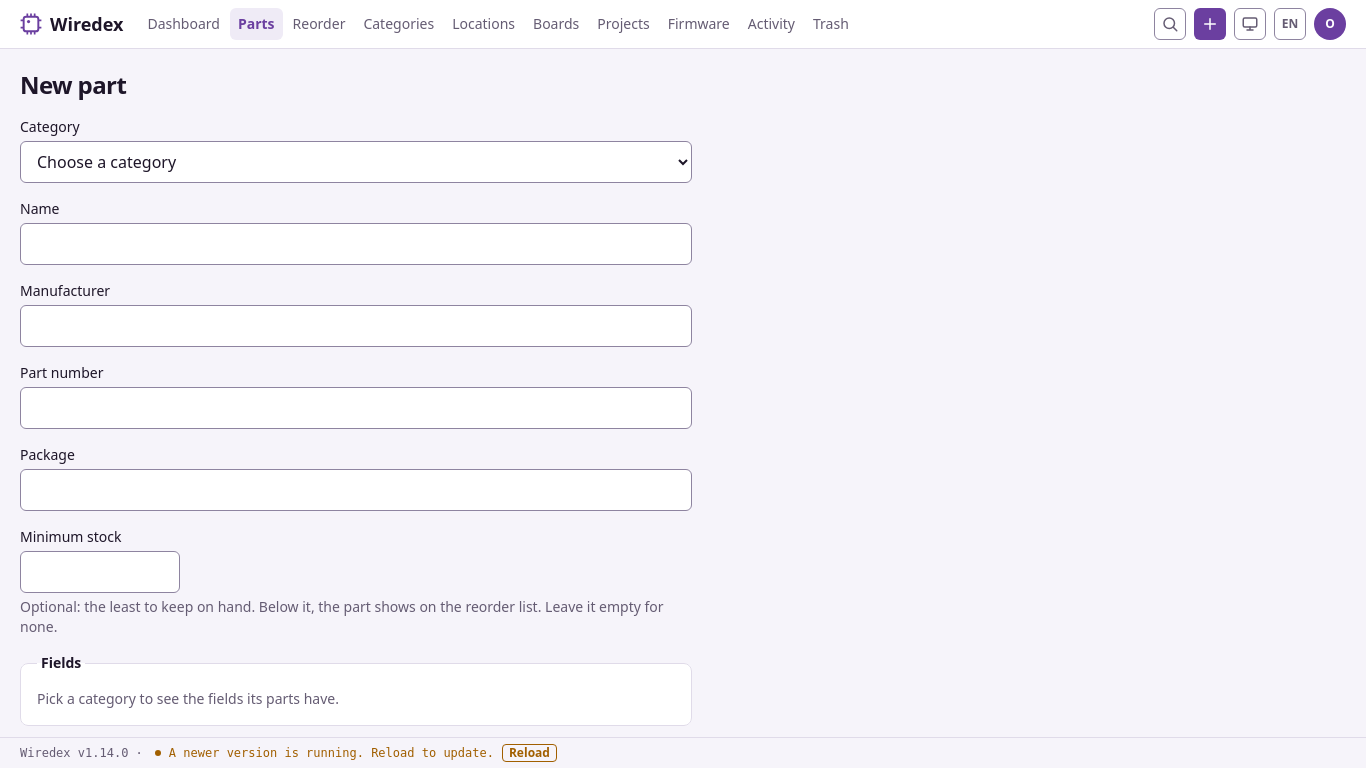
PartForm › refuses a number it can't read, before asking the API
The width and height of the screenshot is (1366, 768).
Select "Resistors" in the dropdown labelled "Category" at (356, 162), box [20, 141, 692, 183]
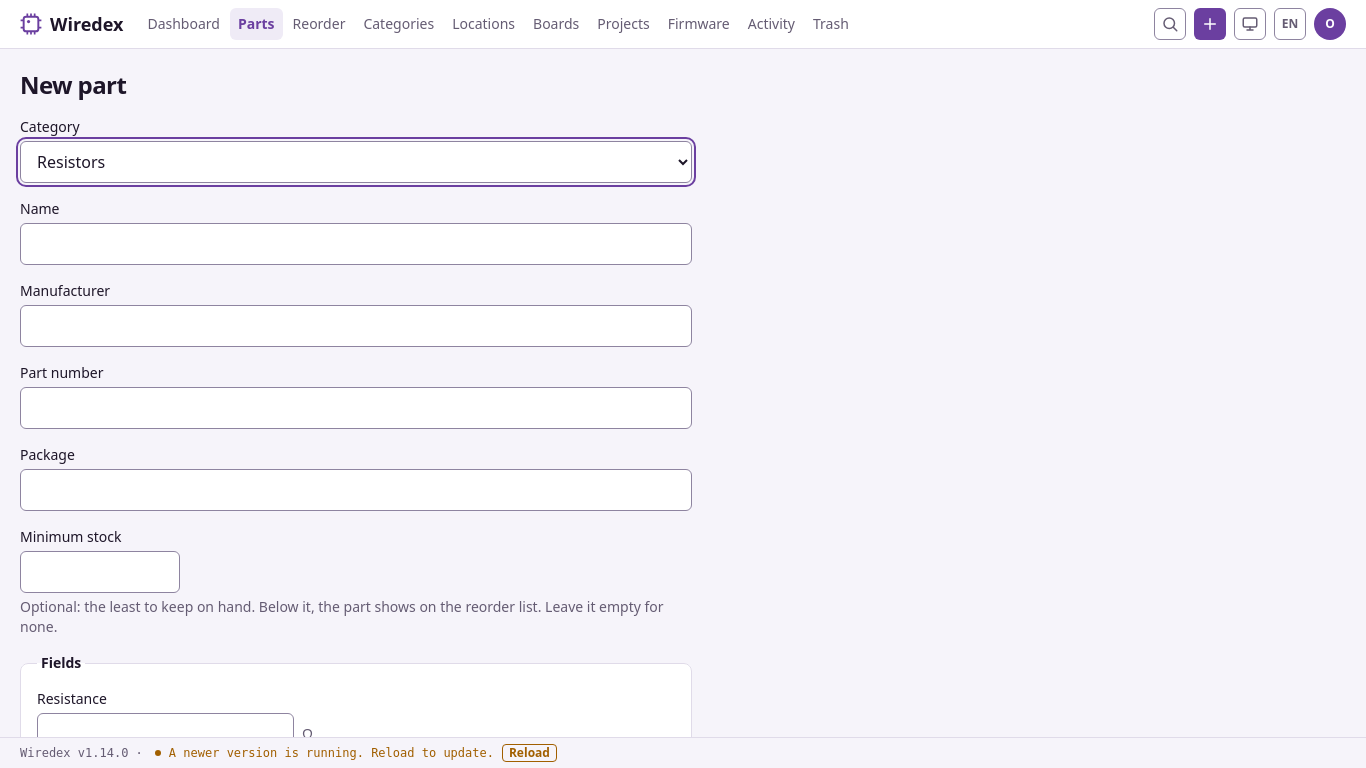
Type "Resistor" into the field labelled "Name" at (356, 244), box [20, 223, 692, 265]
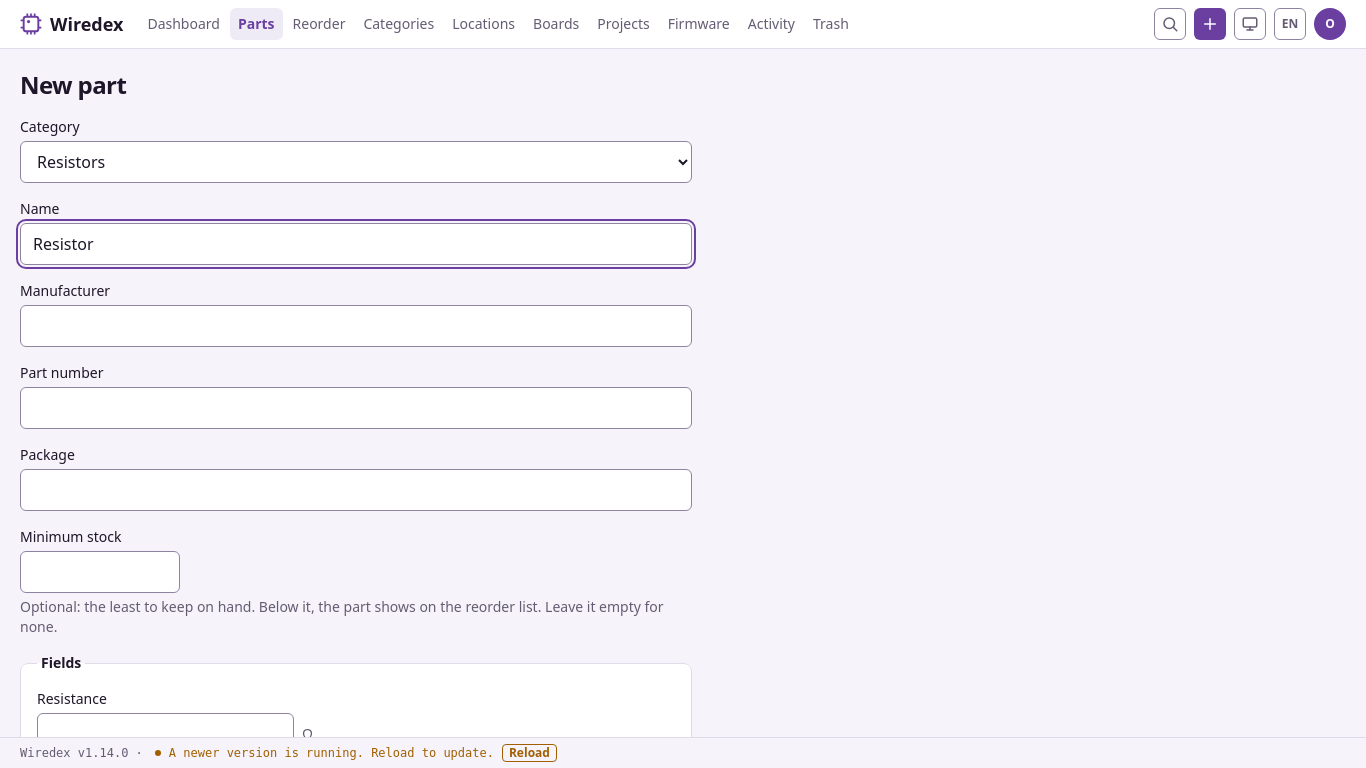
Type "10K" into the field labelled "Resistance" at (166, 734), box [37, 713, 294, 755]
(page scrolled)
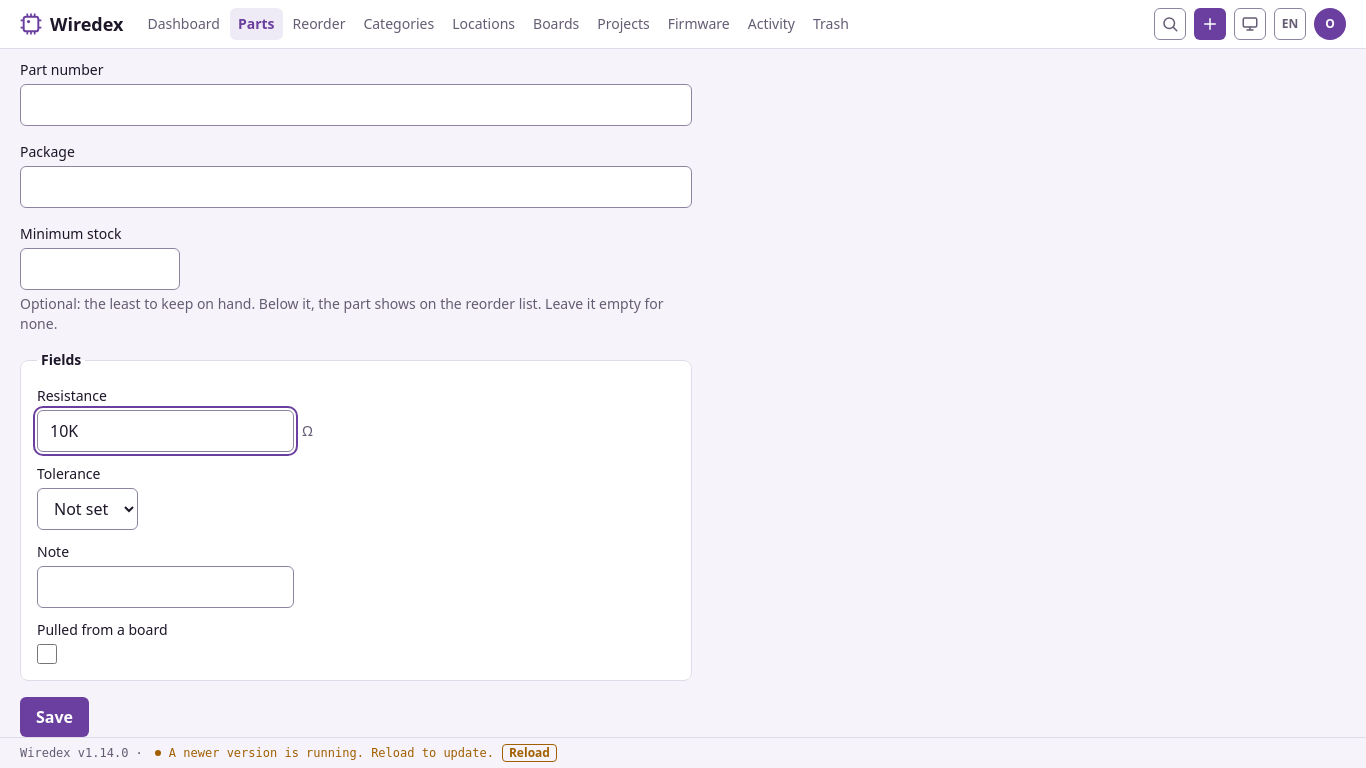
Click the button "Save" at (54, 717), box [20, 697, 89, 737]
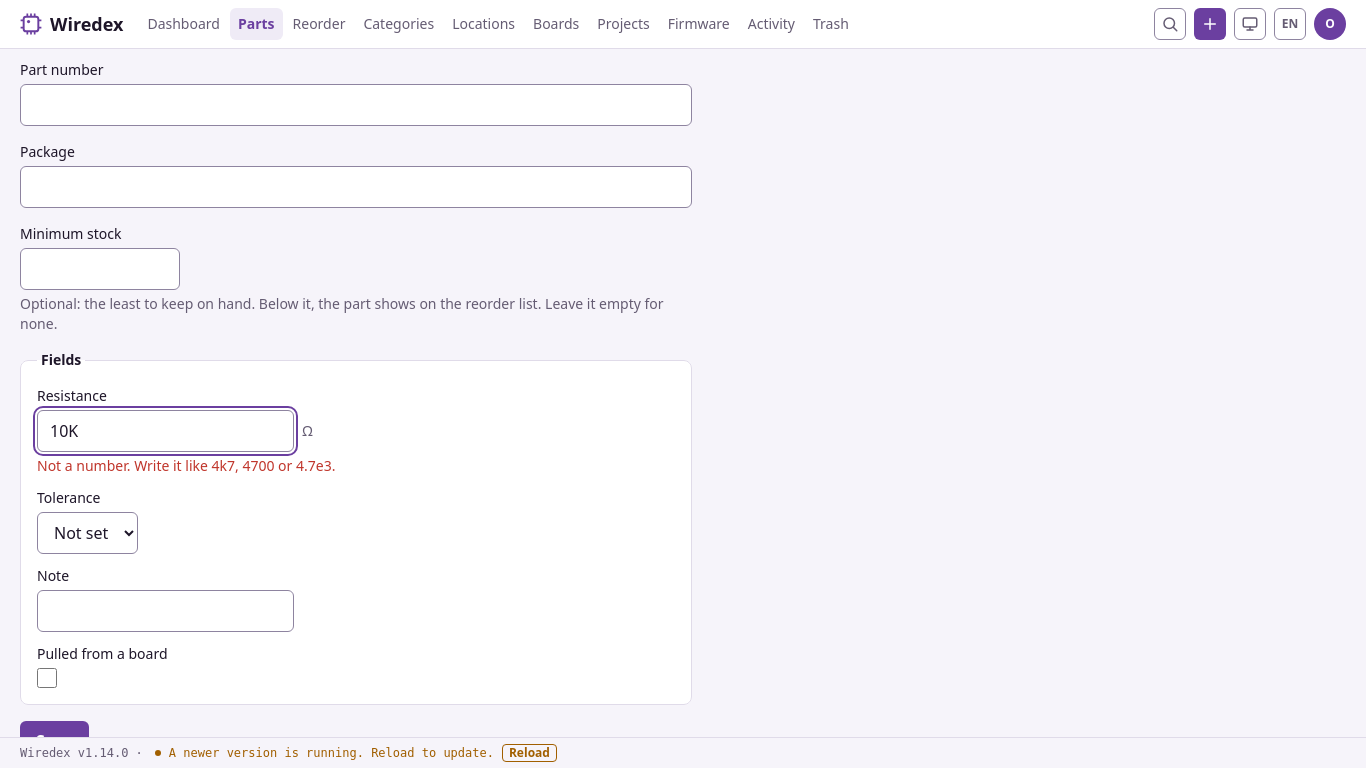
Check: the text "Not a number. Write it like 4k7, 4700 or 4.7e3." is shown, box [37, 456, 335, 475]
